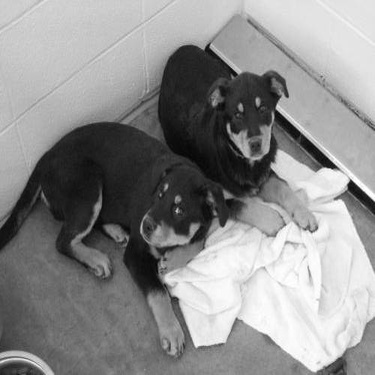dog: (1, 113, 297, 363), (156, 31, 326, 239)
